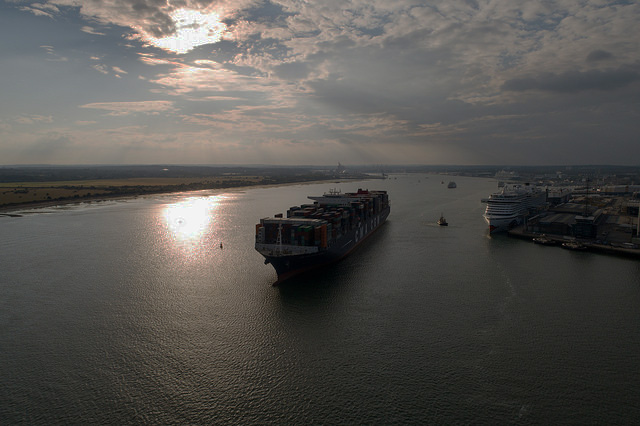container_ship: (251, 188, 394, 285)
cruise_ship: (480, 176, 534, 233)
tug_boat: (433, 209, 453, 232)
